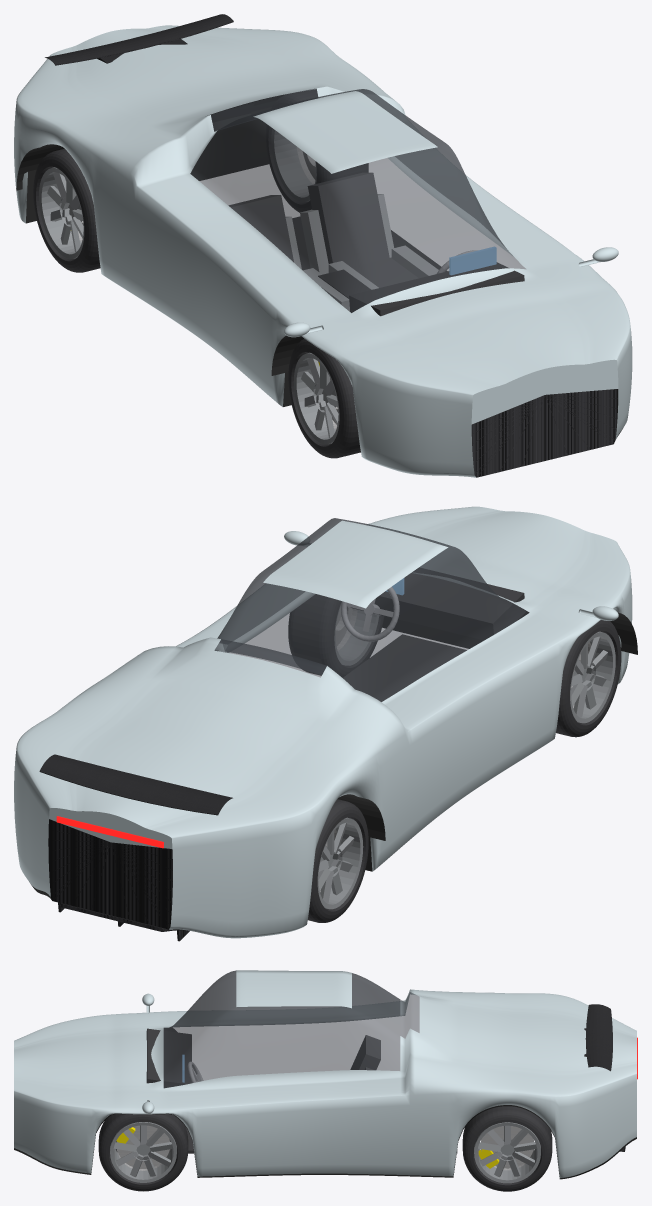
Rendered from porsche-taycan-turbo-s.glb.
The picture shows the model from 3 angles, top to bottom: view 1: azimuth 30°, elevation 25°; view 2: azimuth 150°, elevation 25°; view 3: azimuth 270°, elevation 25°; orthographic projection. The views are drawn at different scales.
Visible parts, largest first — view 1: Body_PrimaryPaint, Glass_Windows, Carbon_Exterior, Interior_Seats, Underbody, Interior_SeatBolsters, Tire_FR, Tire_RR, Rim_FR, Rim_RR, Interior_Dashboard, WheelWells (+4 smaller); view 2: Body_PrimaryPaint, Glass_Windows, Carbon_Exterior, Interior_Dashboard, Interior_Tub, Tire_FL, Rim_FR, Rim_RR, Tire_FR, Tire_RR, WheelWells, Underbody (+3 smaller); view 3: Body_PrimaryPaint, Glass_Windows, Tire_RL, Tire_FL, Rim_FL, Rim_RL, Interior_Dashboard, Carbon_Exterior, Underbody, Interior_Seats, BrakeDisc_FL, BrakeDisc_RL.
Part boxes in pixels (box(x1,y1,x2,y2)): Body_PrimaryPaint: box(14, 25, 632, 477); Glass_Windows: box(190, 88, 525, 312); Carbon_Exterior: box(45, 14, 618, 477); Interior_Seats: box(228, 172, 418, 287); Underbody: box(26, 101, 622, 436); Interior_SeatBolsters: box(285, 194, 438, 311); Tire_FR: box(288, 339, 360, 458); Tire_RR: box(33, 148, 100, 272); Rim_FR: box(293, 352, 339, 444); Rim_RR: box(39, 167, 84, 258); Interior_Dashboard: box(349, 262, 524, 316); WheelWells: box(16, 94, 447, 375); Body_PrimaryPaint: box(14, 506, 632, 938); Glass_Windows: box(214, 518, 529, 701); Carbon_Exterior: box(39, 754, 232, 941); Interior_Dashboard: box(351, 567, 525, 640); Interior_Tub: box(343, 634, 466, 693); Tire_FL: box(288, 594, 384, 677); Rim_FR: box(570, 631, 615, 723); Rim_RR: box(317, 817, 363, 909); Tire_FR: box(556, 620, 621, 737); Tire_RR: box(308, 799, 368, 922); WheelWells: box(338, 612, 637, 840); Underbody: box(30, 611, 529, 899); Body_PrimaryPaint: box(14, 970, 636, 1178); Glass_Windows: box(163, 970, 419, 1088); Tire_RL: box(462, 1106, 552, 1191); Tire_FL: box(98, 1114, 188, 1191); Rim_FL: box(110, 1122, 176, 1182); Rim_RL: box(474, 1122, 540, 1183); Interior_Dashboard: box(146, 1028, 191, 1088); Carbon_Exterior: box(584, 1004, 625, 1151); Underbody: box(14, 1105, 636, 1179); Interior_Seats: box(350, 1035, 380, 1070); BrakeDisc_FL: box(117, 1125, 169, 1170); BrakeDisc_RL: box(481, 1126, 533, 1170).
Bounding box in the file's own units: 2.2 × 1.37 × 4.97.
15 materials, 2 textured.
